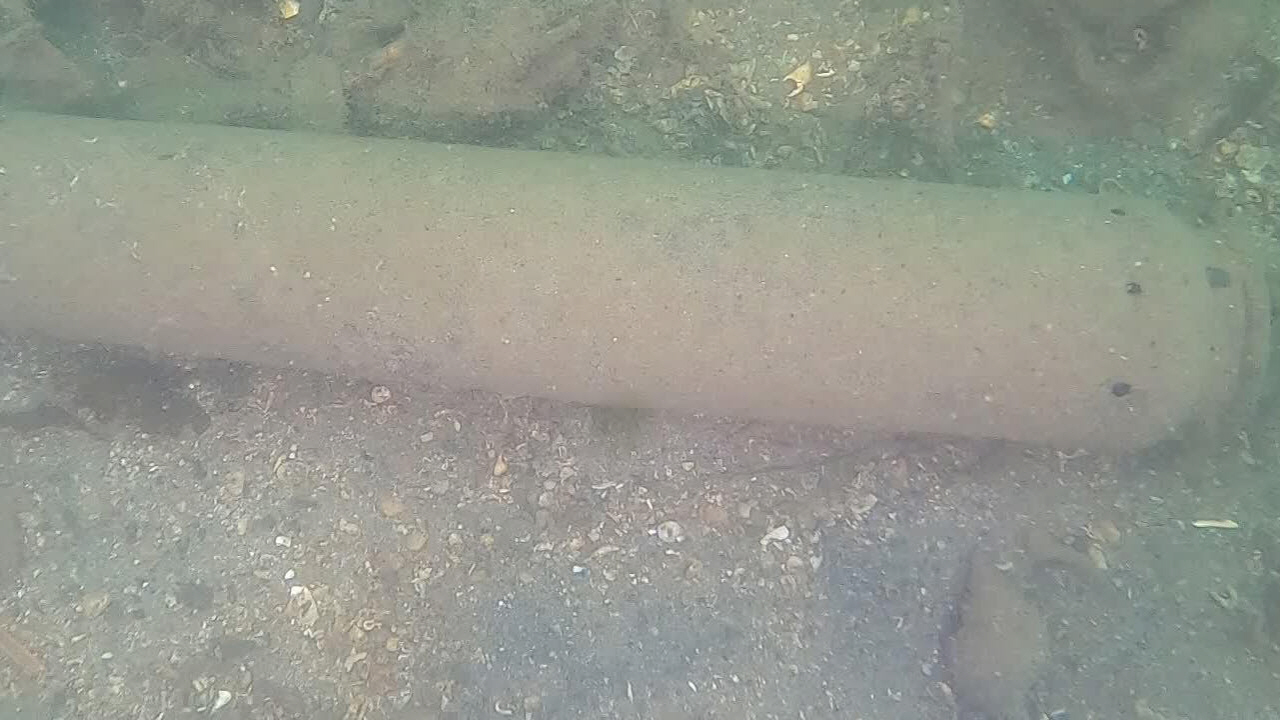eel fish trap: (0, 109, 1268, 453)
